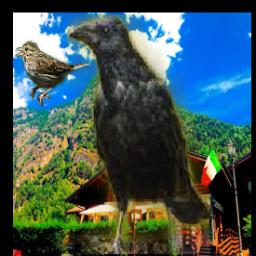Crow: (68, 15, 210, 255)
Sparrow: (15, 39, 89, 107)
